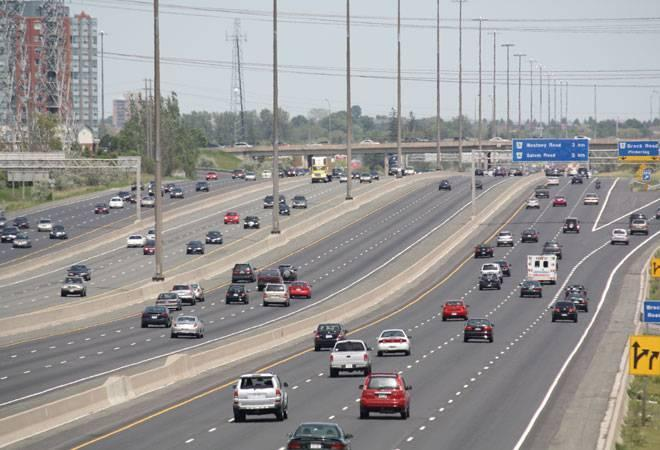car: (353, 370, 421, 425), (229, 367, 293, 422), (284, 421, 356, 450), (332, 339, 374, 382), (524, 250, 561, 291), (279, 256, 309, 302), (463, 314, 499, 350), (134, 306, 177, 334), (474, 263, 510, 296), (376, 329, 411, 360), (259, 277, 293, 308), (308, 154, 336, 187), (58, 274, 93, 300), (172, 313, 203, 341), (224, 280, 253, 308), (229, 258, 257, 287), (549, 299, 582, 323), (560, 284, 592, 308), (120, 228, 147, 254), (442, 296, 471, 320), (242, 210, 264, 236), (197, 228, 227, 247), (627, 214, 652, 236), (178, 241, 208, 259), (106, 189, 126, 216), (46, 221, 71, 242), (473, 241, 498, 262), (434, 173, 454, 199), (221, 205, 243, 228), (608, 226, 630, 247), (288, 190, 310, 210), (33, 213, 55, 233), (518, 228, 538, 249), (496, 231, 517, 250), (91, 199, 112, 218), (560, 218, 582, 235), (554, 192, 569, 207)
indicator: (624, 330, 660, 376)
